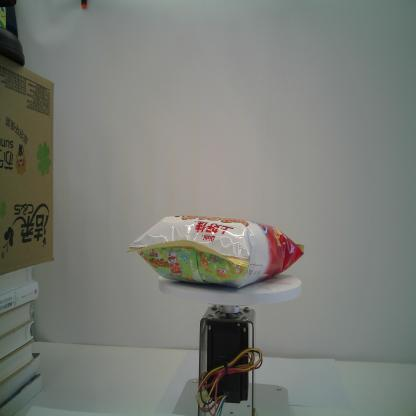Puffed Food: (125, 211, 306, 287)
